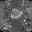people: (10, 8, 24, 20)
